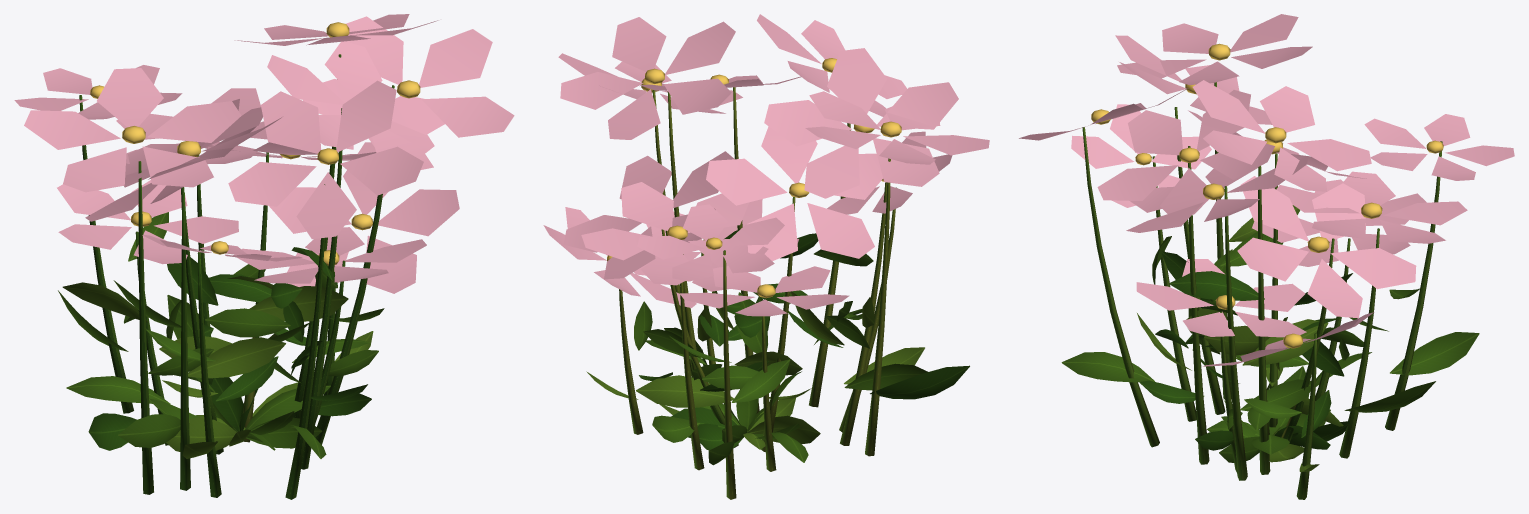
Rendered from Pink_ornamental_2.glb.
The picture shows the model from 3 angles, left to right: view 1: azimuth 30°, elevation 25°; view 2: azimuth 150°, elevation 25°; view 3: azimuth 270°, elevation 25°; orthographic projection. The views are drawn at different scales.
Visible parts, largest first — view 1: Pink_ornamental_2_Flowers.003, Pink_ornamental_2_Leaves.004, Pink_ornamental_2_Stems.004, Pink_ornamental_2_Centers.003; view 2: Pink_ornamental_2_Flowers.003, Pink_ornamental_2_Leaves.004, Pink_ornamental_2_Stems.004, Pink_ornamental_2_Centers.003; view 3: Pink_ornamental_2_Flowers.003, Pink_ornamental_2_Leaves.004, Pink_ornamental_2_Stems.004, Pink_ornamental_2_Centers.003.
Part boxes in pixels (x1,y1,x2,y2): Pink_ornamental_2_Flowers.003: (14, 14, 514, 293); Pink_ornamental_2_Leaves.004: (58, 212, 384, 458); Pink_ornamental_2_Stems.004: (79, 54, 394, 499); Pink_ornamental_2_Centers.003: (90, 22, 420, 265); Pink_ornamental_2_Flowers.003: (543, 14, 989, 316); Pink_ornamental_2_Leaves.004: (586, 229, 969, 465); Pink_ornamental_2_Stems.004: (619, 87, 896, 499); Pink_ornamental_2_Centers.003: (607, 58, 901, 298); Pink_ornamental_2_Flowers.003: (1019, 14, 1514, 366); Pink_ornamental_2_Leaves.004: (1061, 205, 1479, 472); Pink_ornamental_2_Stems.004: (1082, 82, 1442, 499); Pink_ornamental_2_Centers.003: (1091, 43, 1443, 348).
Size of the model in its own units: 1.05 by 0.9491 by 1.08.
3 materials, 1 textured.
